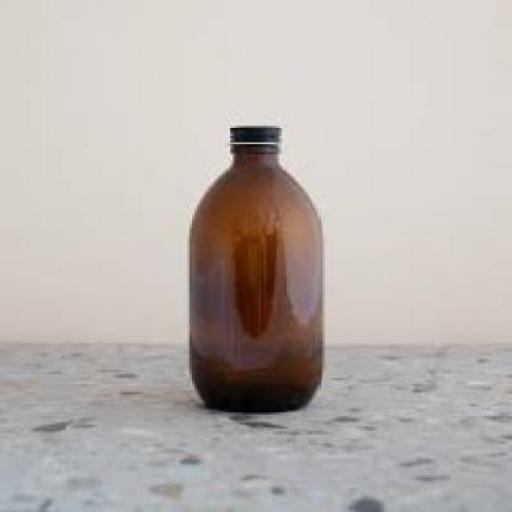glass: (184, 142, 323, 411)
metal: (226, 124, 280, 153)
